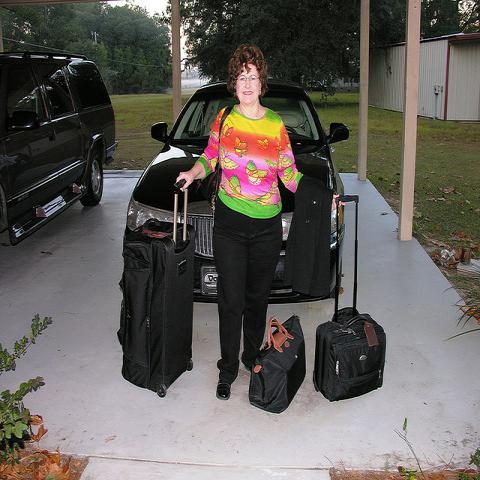car: (125, 77, 349, 304), (0, 52, 118, 246)
